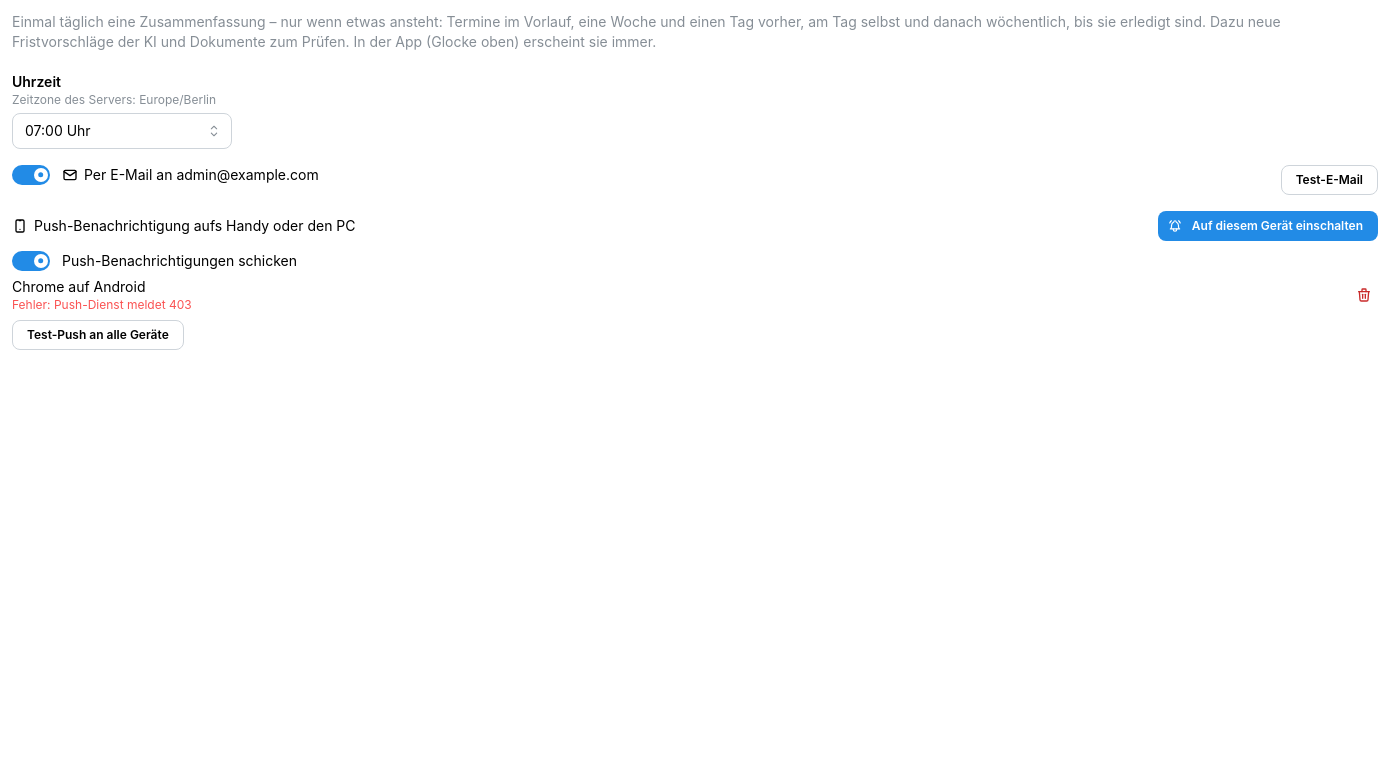
it: Einstellungen Benachrichtigungen › Uhrzeit ändern, Test-E-Mail, Push-Gerät entfernen
What coordinates should you click on to do the following:
click the dropdown labelled "Uhrzeit"
I would click on:
 (122, 131)
Its box is [12, 113, 232, 149].
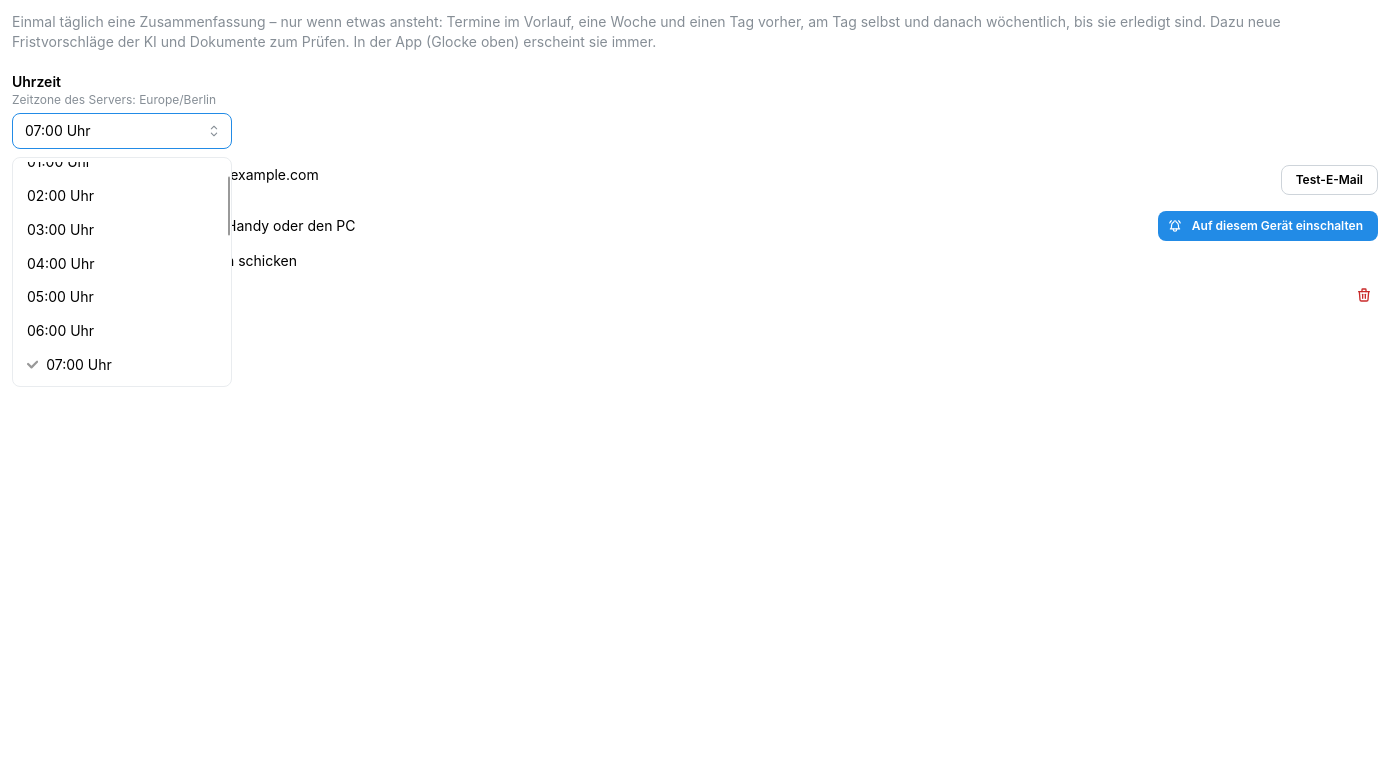
What coordinates should you click on to do the following:
click the option "06:00 Uhr"
I would click on:
 (61, 330)
Its box is [27, 322, 94, 339].
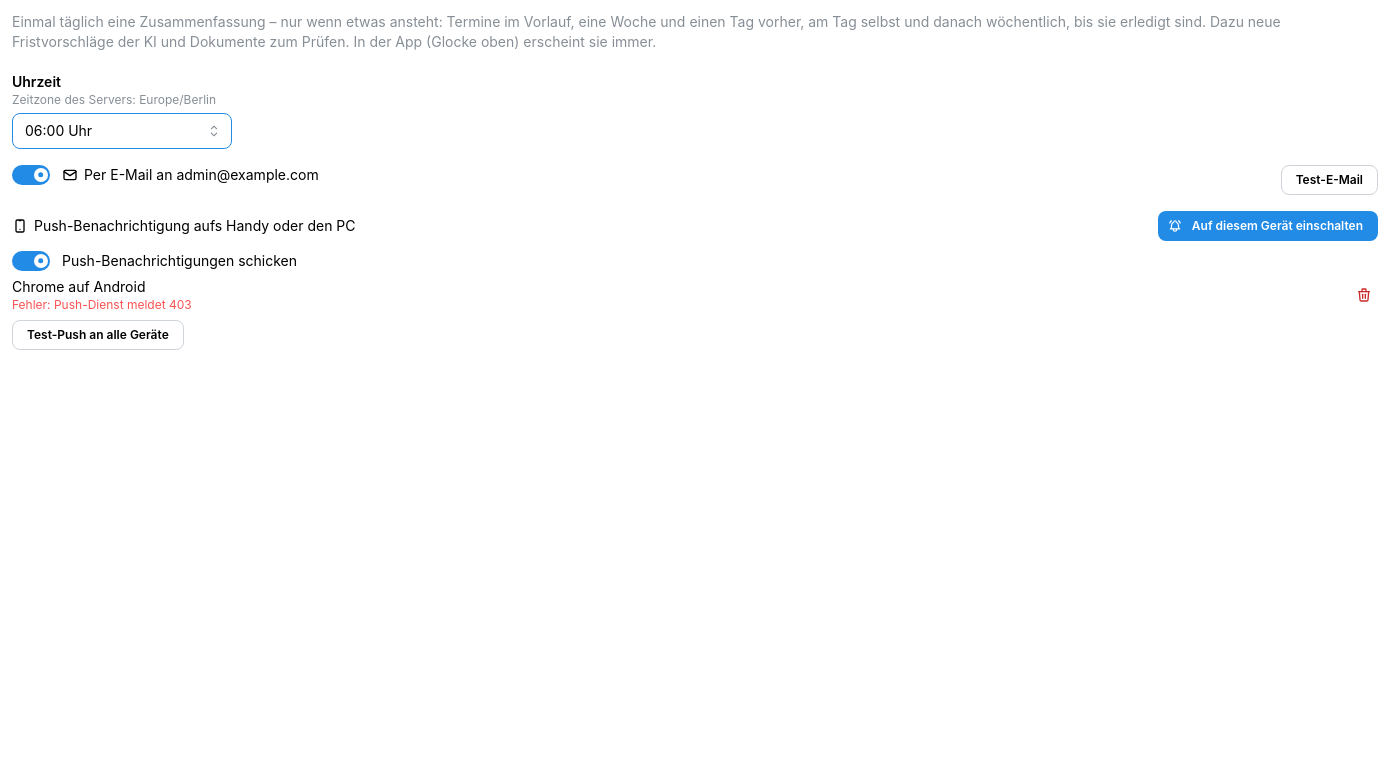
What coordinates should you click on to do the following:
click the button "Test-E-Mail"
I would click on:
 (1329, 180)
Its box is [1281, 165, 1378, 195].
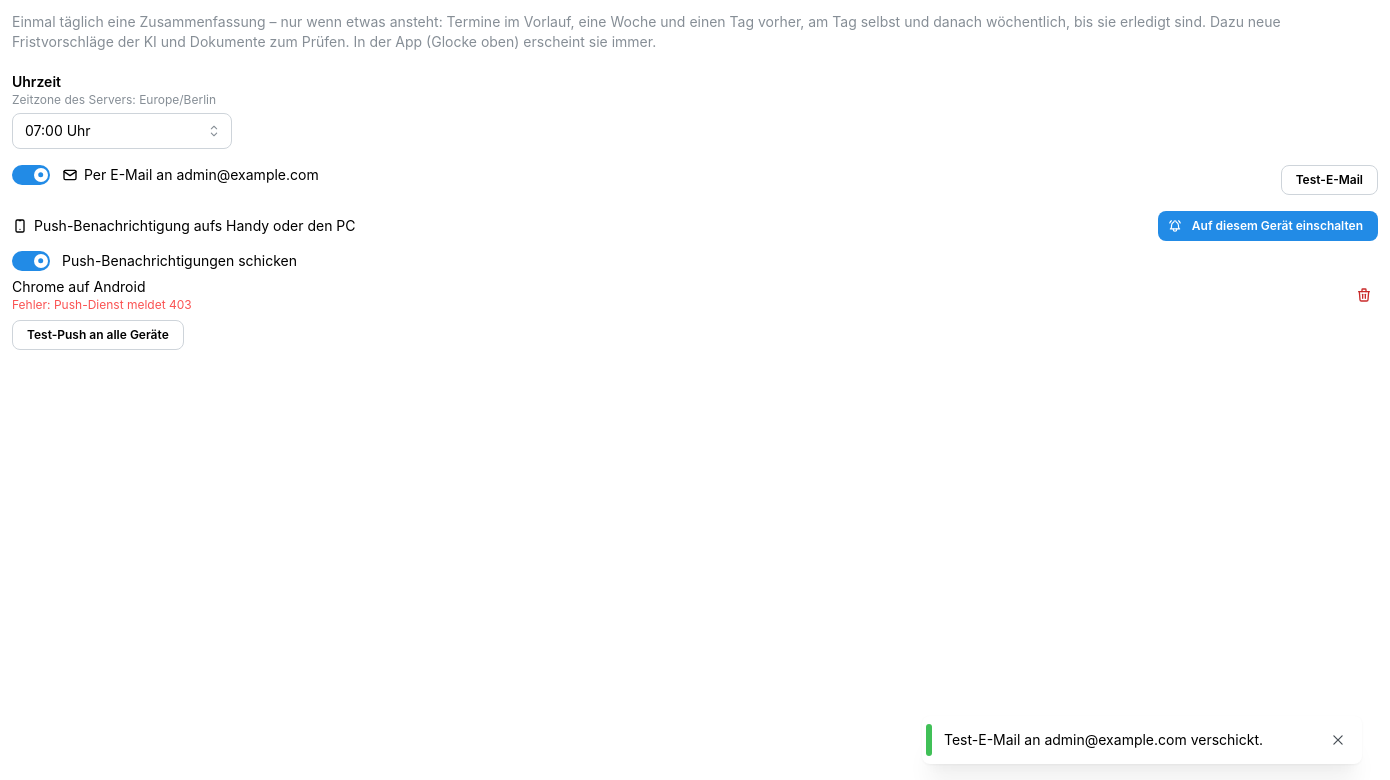
Check: the text "Fehler: Push-Dienst meldet 403" is shown, box [12, 297, 192, 314]
Check: the text "Test-E-Mail an admin@example.com verschickt." is shown, box [944, 730, 1314, 750]
What coordinates should you click on to do the following:
click the button named "Chrome auf Android entfernen"
I would click on:
 (1364, 295)
Its box is [1350, 281, 1378, 309].
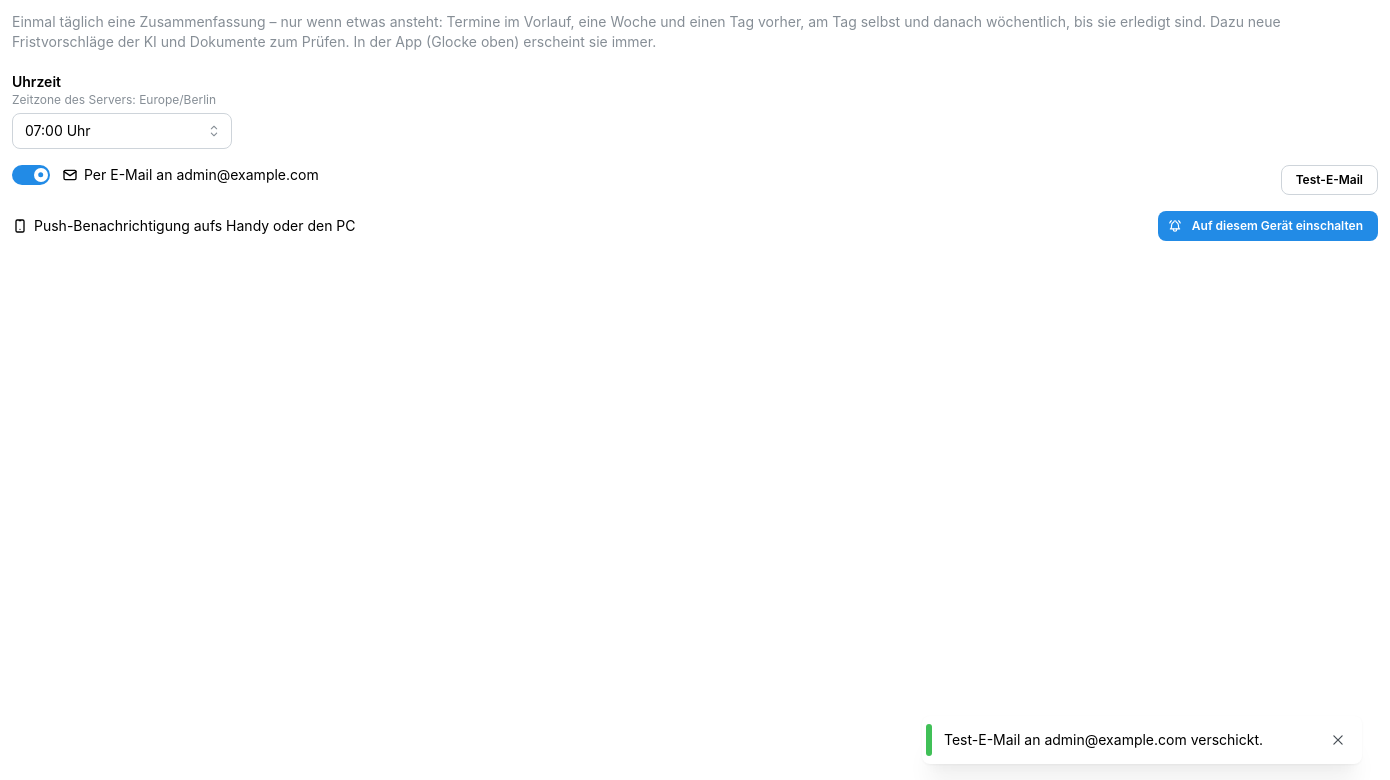
Check: no elements with test id "push-device" are shown
